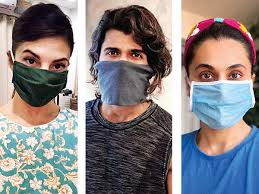FaceMask: (190, 81, 255, 130), (12, 61, 68, 107), (95, 61, 151, 105)
